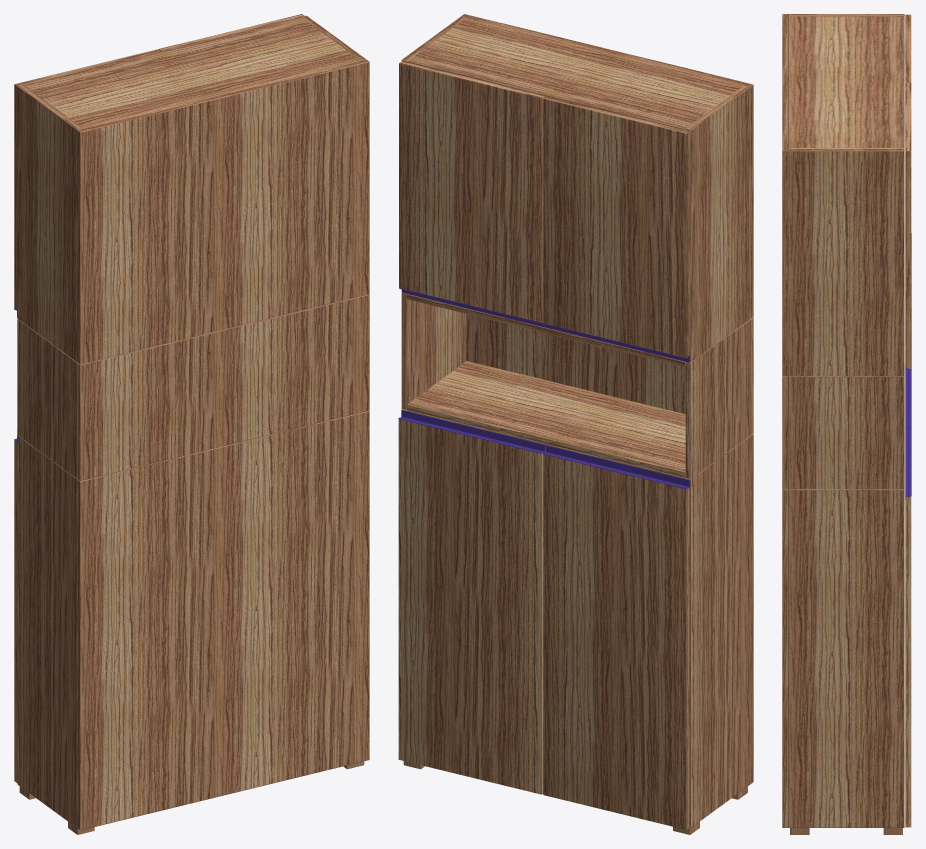
Rendered from higned_door_cabinet_3OH_attach_1OH_2OH_finala.fbx.
3 views of the same model, side by side, from view 1: azimuth 30°, elevation 25°; view 2: azimuth 150°, elevation 25°; view 3: azimuth 270°, elevation 25° (orthographic). The views are drawn at different scales.
Visible parts, largest first — view 1: drewno_mesh, aaa2:M81.I274, aaa4:M2.I2; view 2: drewno_mesh, aaa4:M2.I2, aaa3:M0.I0, aaa2:M81.I274, aaa1:M80.I272, M3.I3, aaa8:M3.I3, aaa6:M82.I275; view 3: drewno_mesh, aaa3:M0.I0, aaa1:M80.I272, M3.I3, aaa2:M81.I274, aaa8:M3.I3, metal_mesh.
Part boxes in pixels (x1,y1,x2,y2): drewno_mesh: (17,15,369,830); aaa2:M81.I274: (14,49,160,309); aaa4:M2.I2: (14,440,17,782); drewno_mesh: (401,14,753,827); aaa4:M2.I2: (543,454,689,829); aaa3:M0.I0: (398,419,543,794); aaa2:M81.I274: (543,96,689,357); aaa1:M80.I272: (399,61,545,322); M3.I3: (398,410,545,453); aaa8:M3.I3: (543,445,689,490); aaa6:M82.I275: (543,323,689,362); drewno_mesh: (782,14,904,827); aaa3:M0.I0: (905,496,911,827); aaa1:M80.I272: (905,83,911,368); M3.I3: (905,422,911,500); aaa2:M81.I274: (905,14,911,82); aaa8:M3.I3: (905,368,911,428); metal_mesh: (790,828,902,834).
Bounding box in the file's own units: 100 × 39.88 × 233.
